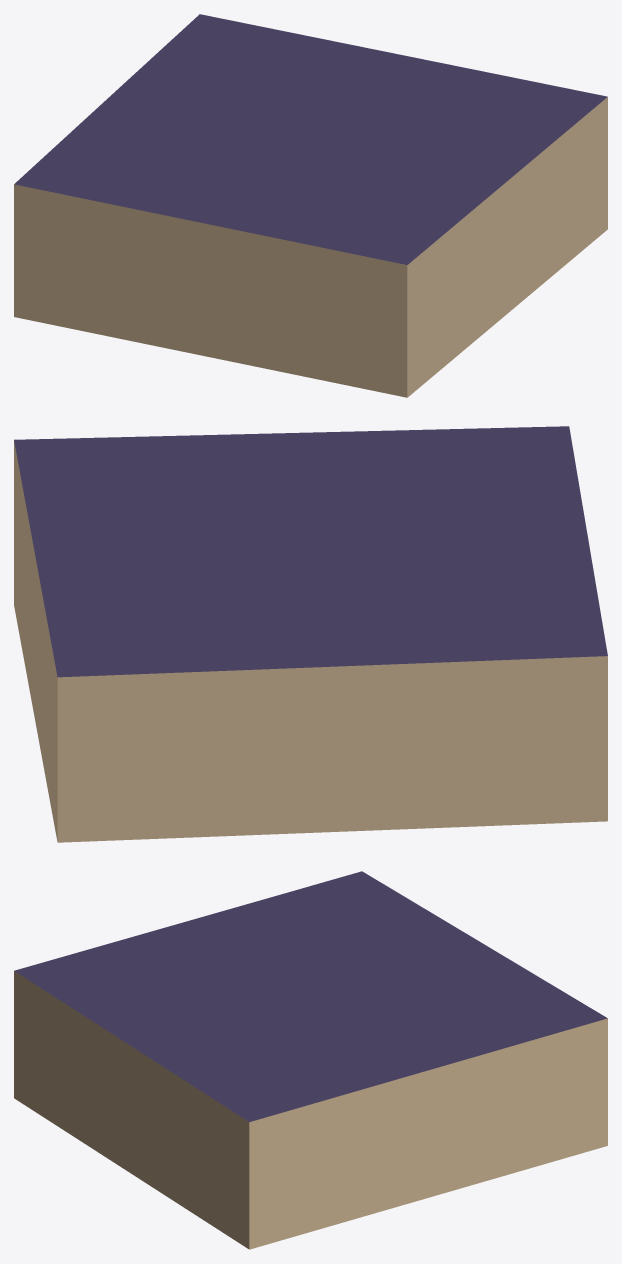
File: b-062-day.glb
3 renders of one model, top to bottom at view 1: azimuth 30°, elevation 25°; view 2: azimuth 150°, elevation 25°; view 3: azimuth 270°, elevation 25°, orthographic. The views are drawn at different scales.
Parts seen in each view (by area): view 1: campus/b-062-day-0; view 2: campus/b-062-day-0; view 3: campus/b-062-day-0.
Part boxes in pixels (x1,y1,x2,y2): campus/b-062-day-0: (14, 14, 607, 397); campus/b-062-day-0: (14, 426, 607, 842); campus/b-062-day-0: (14, 871, 607, 1249).
Size of the model in its own units: 12.67 by 3 by 12.67.
